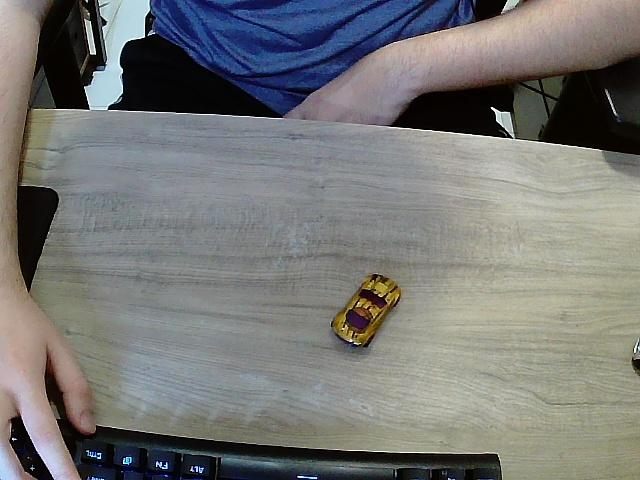Carro: (330, 275, 402, 349)
